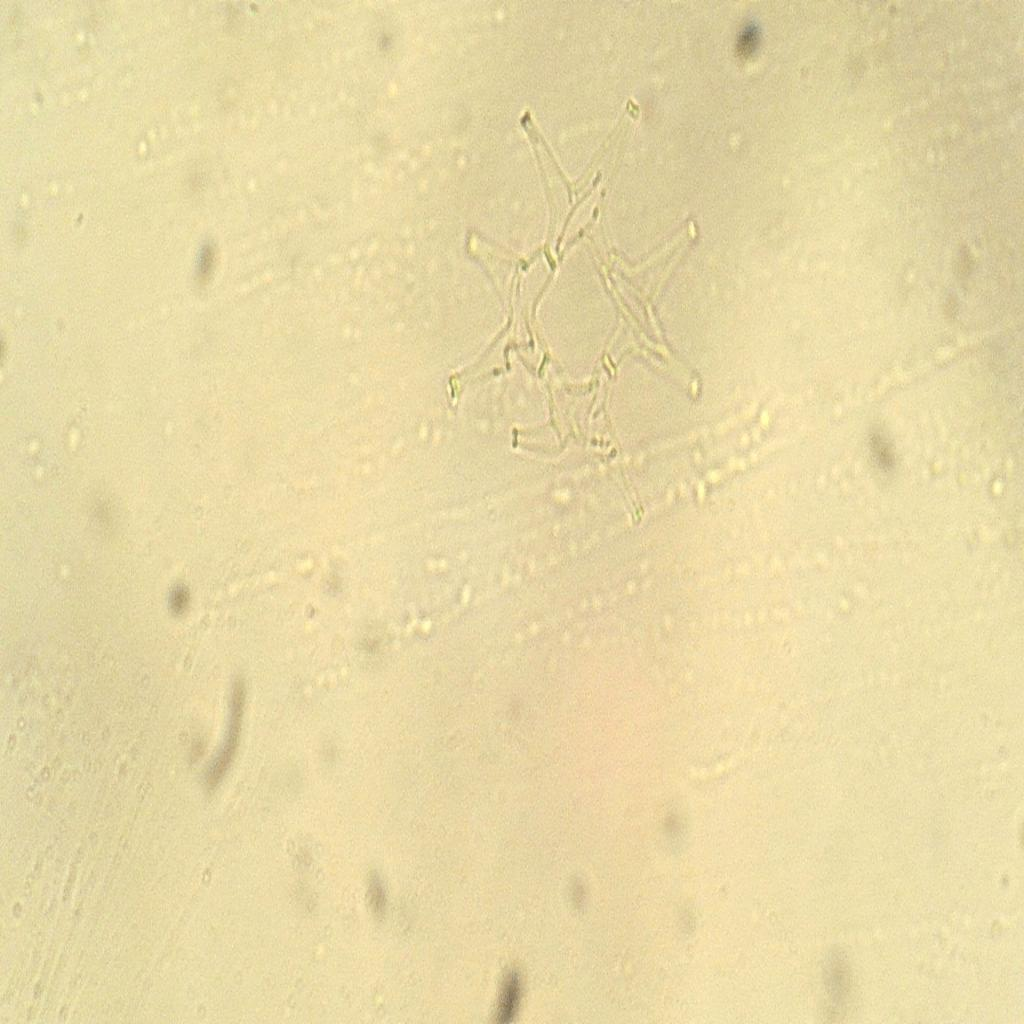Pediastrum_75TH: (434, 61, 718, 509)
